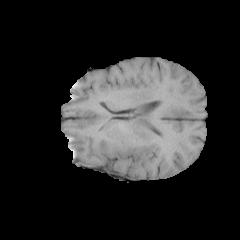glioma: (100, 130, 154, 170)
